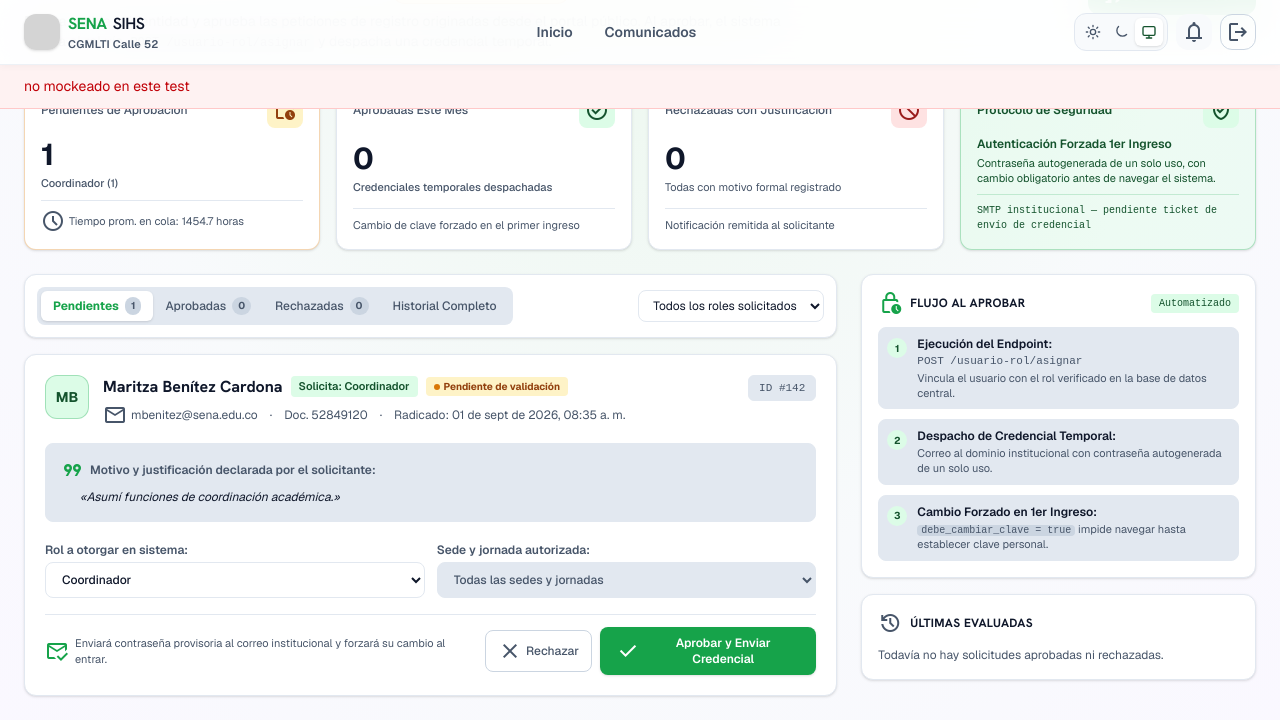
Test: PanelAdministracion › rechazo con "Otro motivo personalizado" exige texto libre (no manda un motivo vacío)
(page scrolled)
Expected: the heading "Maritza Benítez Cardona" is shown, [103,375,282,399]
Click the button "Rechazar" at coordinates (539, 651), box [485,630,592,672]
(page scrolled)
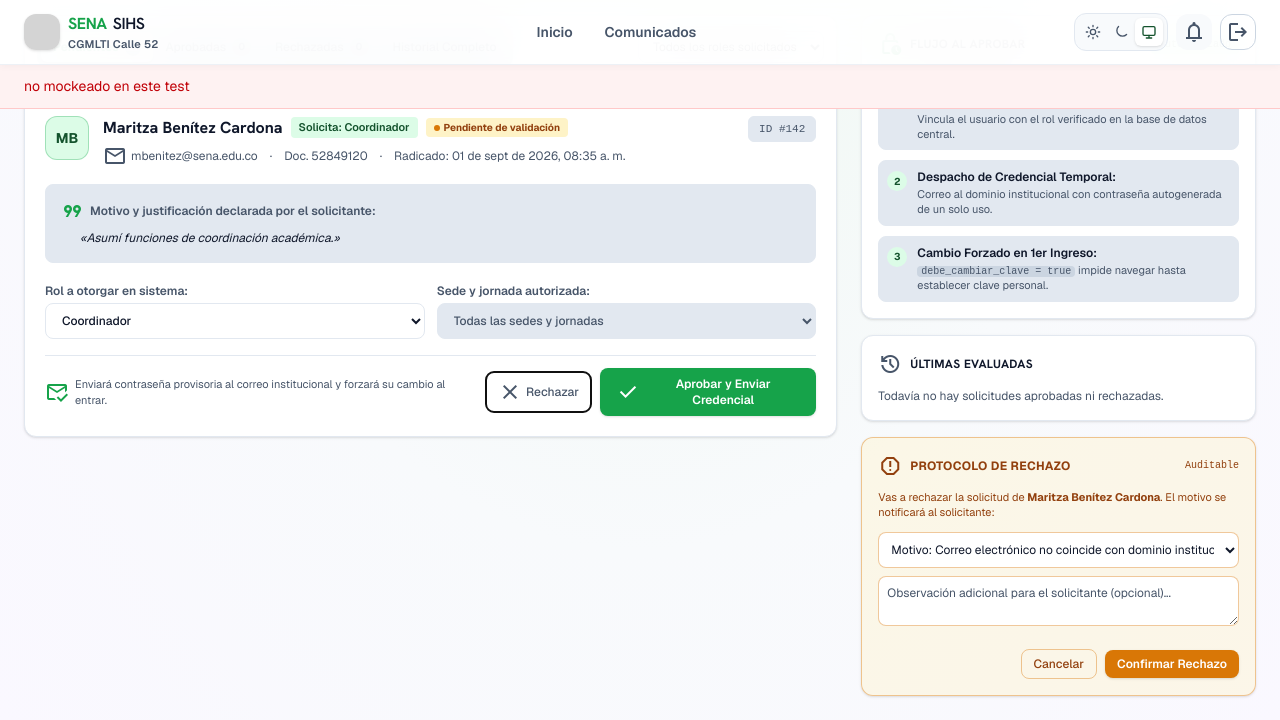
Select "Otro motivo personalizado..." in the dropdown showing "Correo electrónico no coincide" at coordinates (1059, 550), box [878,532,1239,568]
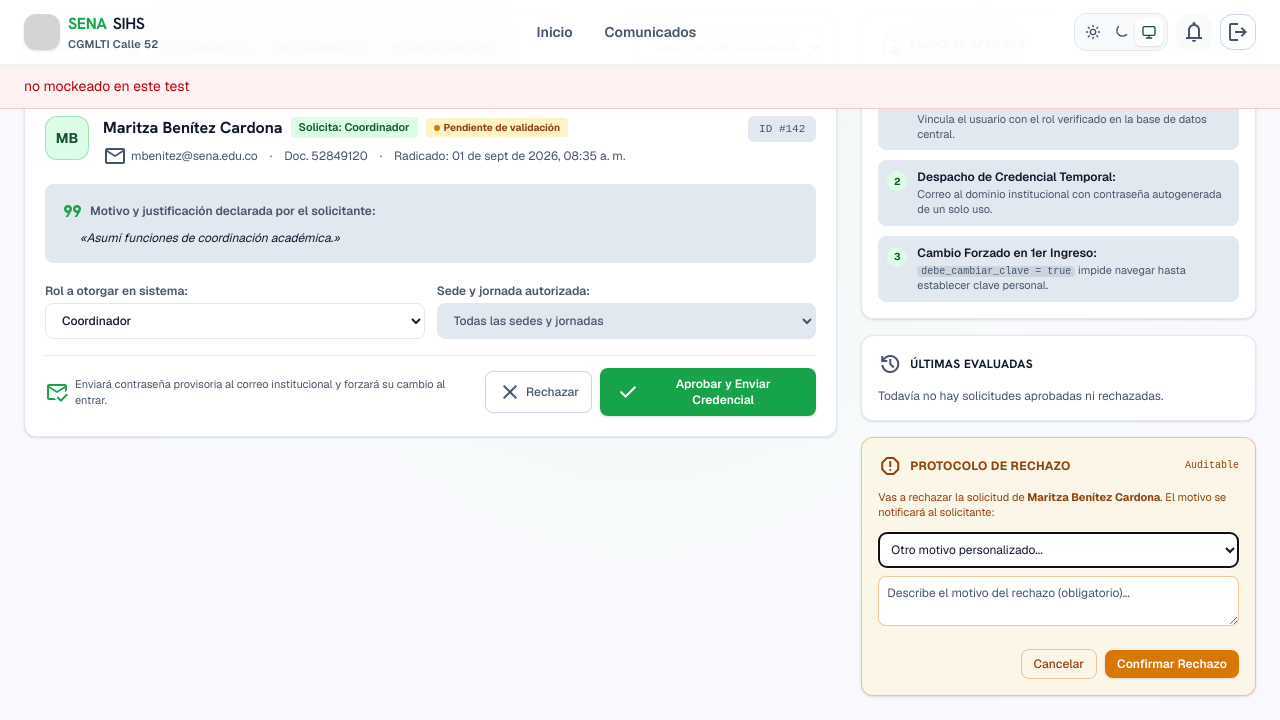
Click the button "Confirmar Rechazo" at coordinates (1172, 664), box [1105,650,1239,678]
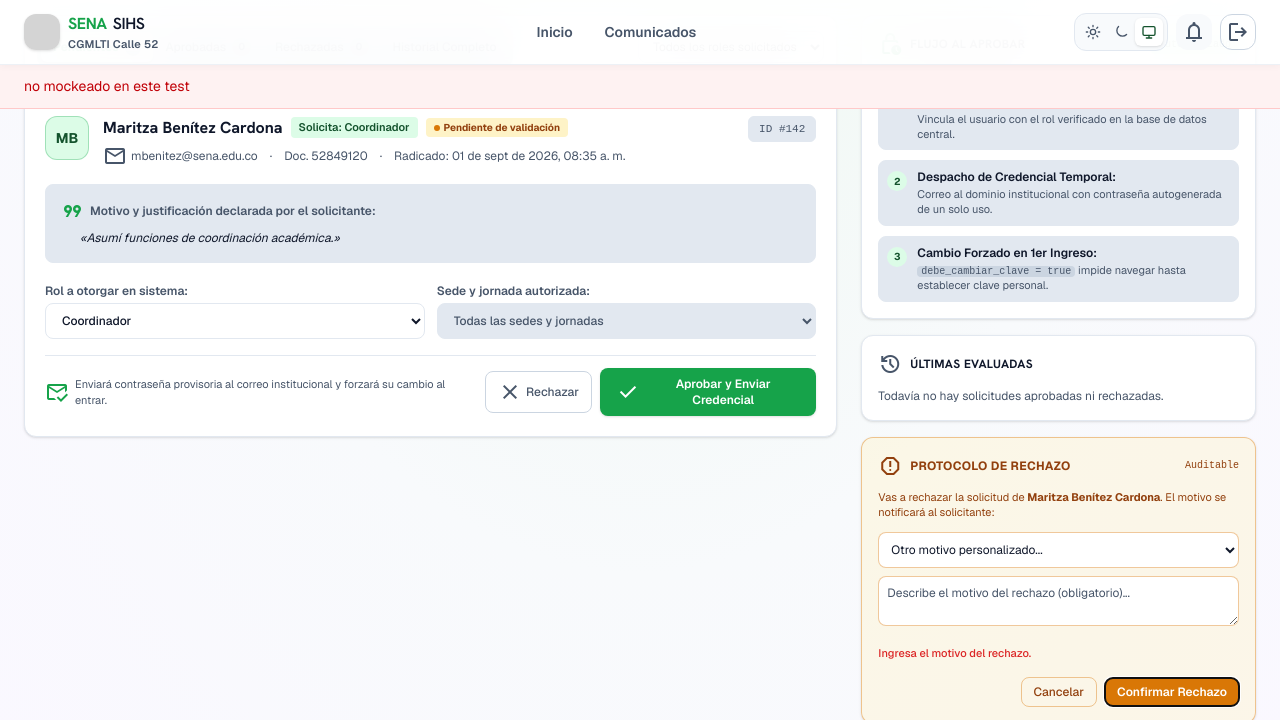
Now the text "Ingresa el motivo del rechazo." is shown, box [878,646,1031,660]
